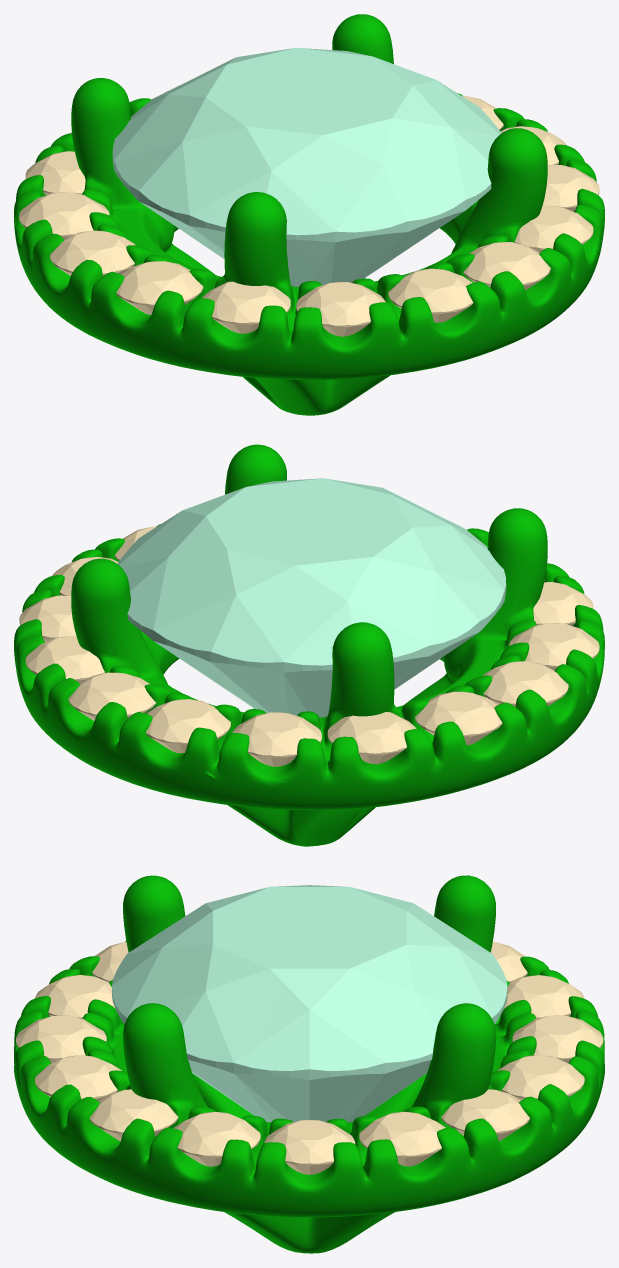
3 renders of one model, top to bottom at view 1: azimuth 30°, elevation 25°; view 2: azimuth 150°, elevation 25°; view 3: azimuth 270°, elevation 25°, orthographic.
Parts seen in each view (by area): view 1: Metal01, CS_Diamond, Diamond_Round.012, Diamond_Round.010, Diamond_Round.013, Diamond_Round.011, Diamond_Round.014, Diamond_Round.009, Diamond_Round.008, Diamond_Round.015, Diamond_Round.007, Diamond_Round (+1 smaller); view 2: Metal01, CS_Diamond, Diamond_Round.006, Diamond_Round.008, Diamond_Round.005, Diamond_Round.007, Diamond_Round.004, Diamond_Round.009, Diamond_Round.010, Diamond_Round.003, Diamond_Round.011, Diamond_Round.002 (+1 smaller); view 3: Metal01, CS_Diamond, Diamond_Round.001, Diamond_Round, Diamond_Round.002, Diamond_Round.004, Diamond_Round.014, Diamond_Round.015, Diamond_Round.003, Diamond_Round.005, Diamond_Round.013, Diamond_Round.006 (+3 smaller).
Boxes of the visible parts, left/top/right/bottom form: Metal01: left=14, top=14, right=604, bottom=415; CS_Diamond: left=112, top=48, right=501, bottom=286; Diamond_Round.012: left=296, top=282, right=385, bottom=336; Diamond_Round.010: left=116, top=261, right=203, bottom=314; Diamond_Round.013: left=388, top=268, right=473, bottom=322; Diamond_Round.011: left=202, top=281, right=290, bottom=333; Diamond_Round.014: left=463, top=242, right=550, bottom=290; Diamond_Round.009: left=50, top=230, right=135, bottom=275; Diamond_Round.008: left=19, top=192, right=109, bottom=239; Diamond_Round.015: left=514, top=205, right=593, bottom=252; Diamond_Round.007: left=25, top=151, right=85, bottom=195; Diamond_Round: left=542, top=165, right=599, bottom=211; Metal01: left=14, top=444, right=604, bottom=846; CS_Diamond: left=117, top=478, right=506, bottom=717; Diamond_Round.006: left=232, top=712, right=321, bottom=766; Diamond_Round.008: left=415, top=691, right=502, bottom=745; Diamond_Round.005: left=146, top=699, right=230, bottom=753; Diamond_Round.007: left=327, top=712, right=416, bottom=764; Diamond_Round.004: left=68, top=672, right=156, bottom=720; Diamond_Round.009: left=483, top=661, right=568, bottom=706; Diamond_Round.010: left=509, top=623, right=599, bottom=670; Diamond_Round.003: left=25, top=636, right=104, bottom=683; Diamond_Round.011: left=533, top=582, right=593, bottom=625; Diamond_Round.002: left=19, top=595, right=76, bottom=642; Metal01: left=14, top=875, right=604, bottom=1253; CS_Diamond: left=112, top=885, right=507, bottom=1122; Diamond_Round.001: left=264, top=1120, right=355, bottom=1174; Diamond_Round: left=173, top=1112, right=260, bottom=1166; Diamond_Round.002: left=359, top=1111, right=445, bottom=1166; Diamond_Round.004: left=497, top=1055, right=584, bottom=1100; Diamond_Round.014: left=35, top=1055, right=121, bottom=1101; Diamond_Round.015: left=89, top=1089, right=178, bottom=1141; Diamond_Round.003: left=441, top=1089, right=529, bottom=1141; Diamond_Round.005: left=512, top=1015, right=603, bottom=1063; Diamond_Round.013: left=16, top=1015, right=106, bottom=1063; Diamond_Round.006: left=504, top=975, right=584, bottom=1018.
Bounding box in the file's own units: 11.06 × 6.49 × 11.06.
